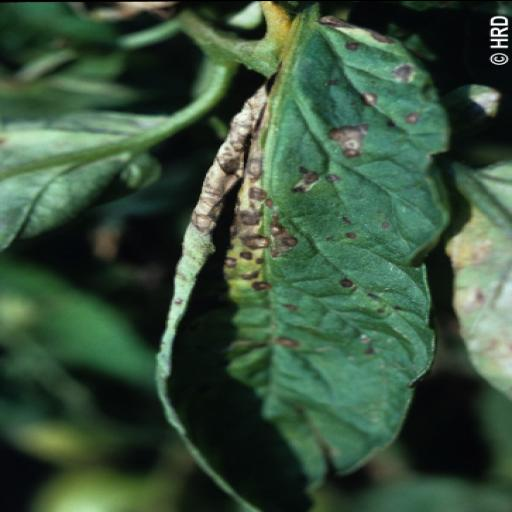disease_tomato: (148, 16, 458, 512)
